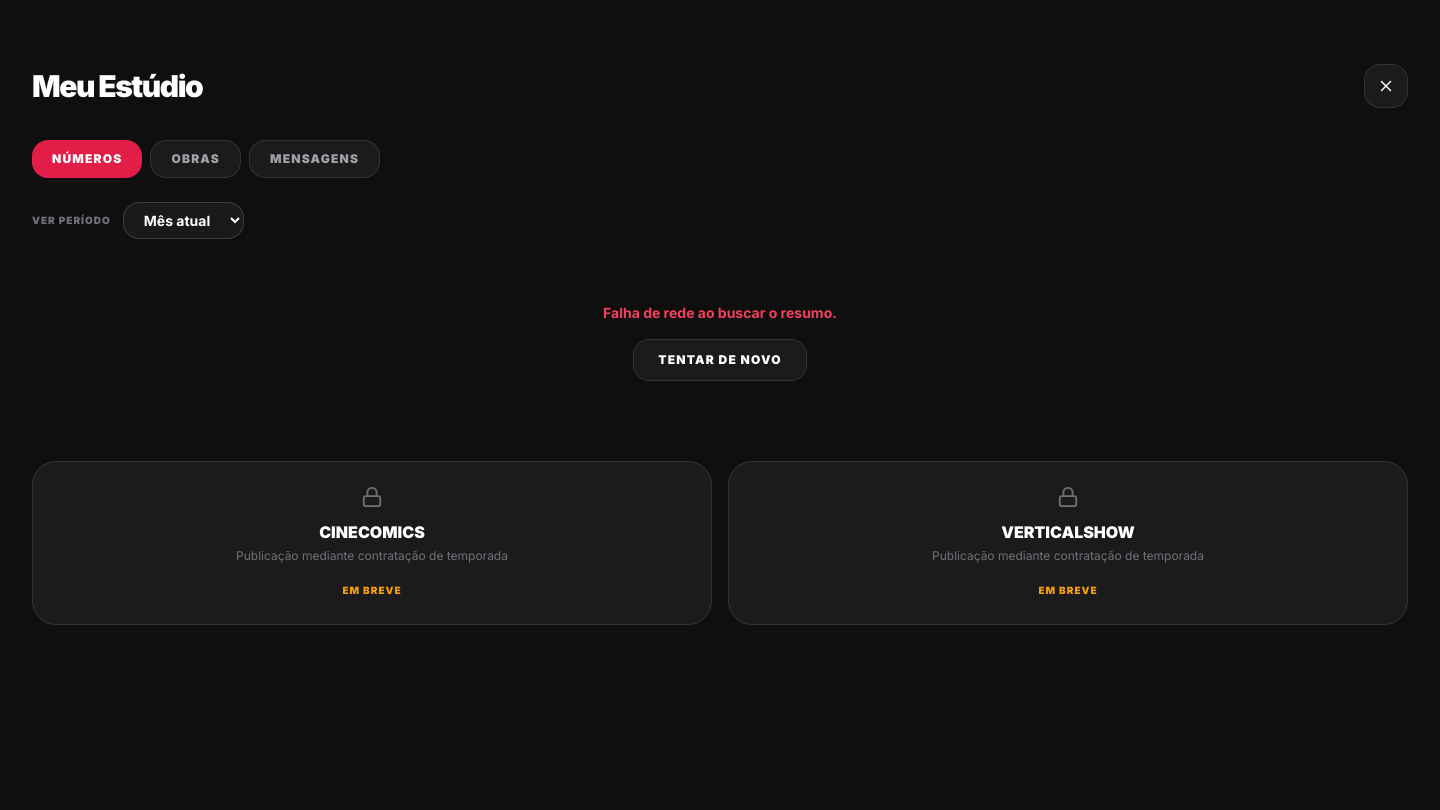
PortalEstudio — aba Números › erro ao carregar NÃO trava num spinner eterno — mostra mensagem + botão "Tentar de novo" que recupera (BAIXO 4)
Check: the text "Falha de rede ao buscar o resumo." is shown, box [603,304,837,321]
Click the button "Tentar de novo".
click(720, 360)  # box [633,339,807,381]
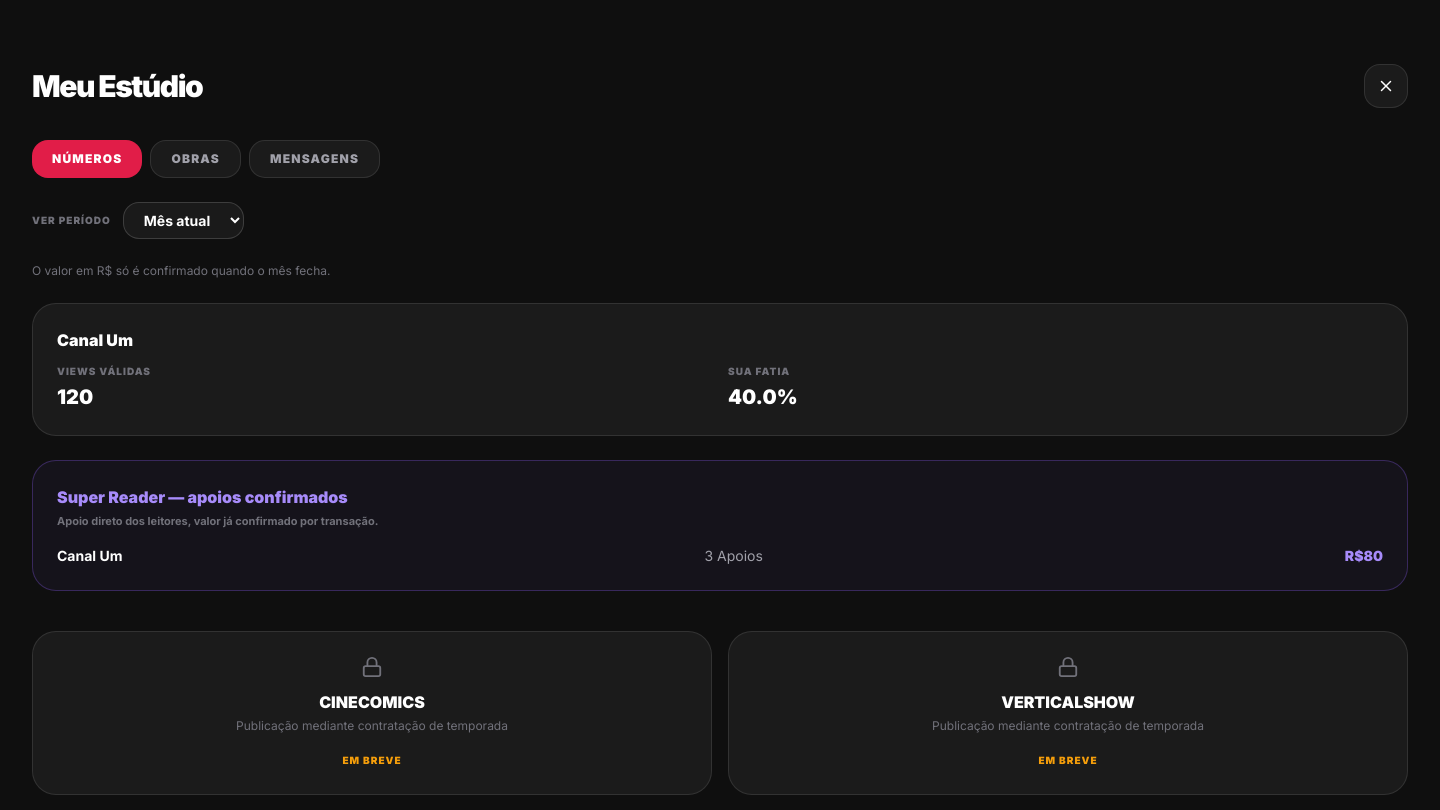
Check: the 1st text "Canal Um" is shown, box [57,330,133,350]
Check: the text "Falha de rede ao buscar o resumo." is gone
